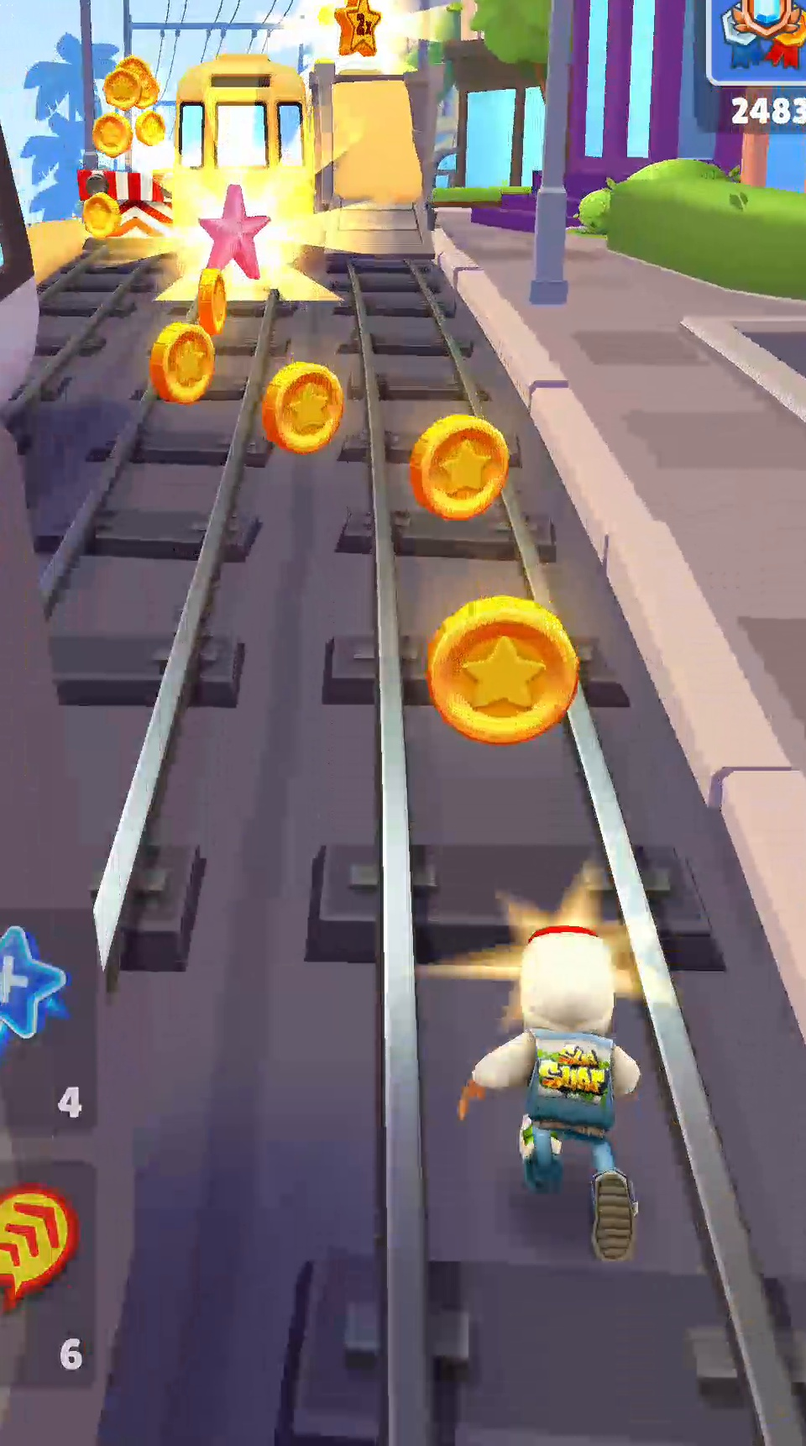climber: (314, 65, 440, 256)
roll blocker: (78, 168, 172, 238)
train: (169, 55, 317, 259), (0, 126, 39, 411)
